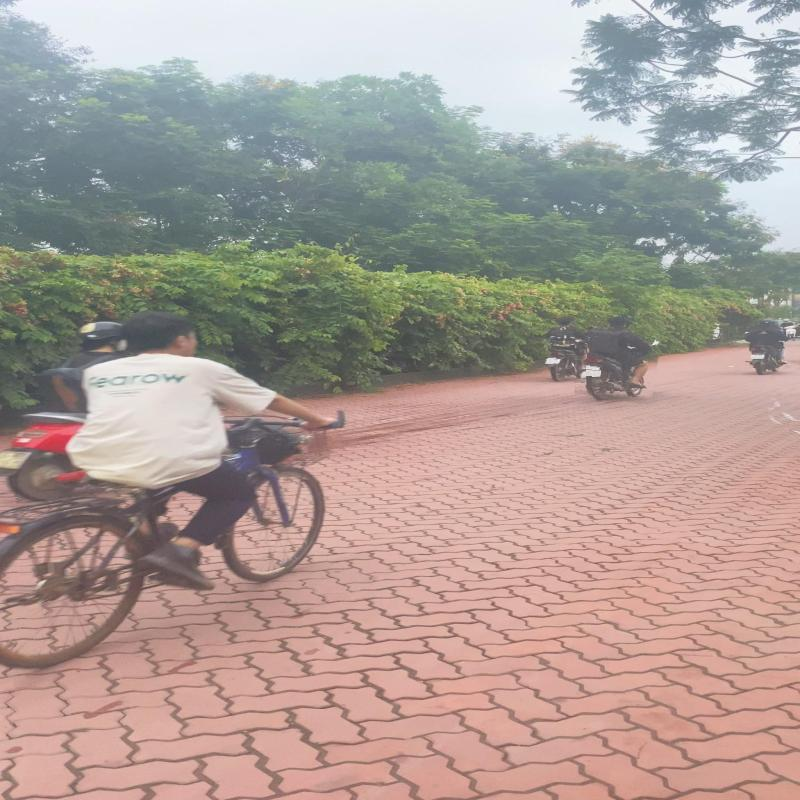licenseplate: (582, 370, 601, 378), (546, 359, 562, 364)
motorcyclist: (578, 314, 660, 403), (543, 316, 588, 382)
nohelmet: (607, 318, 626, 328), (556, 316, 572, 326)
